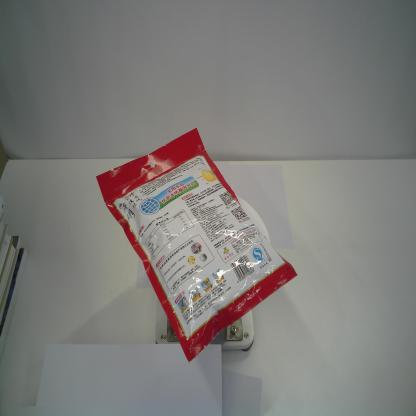Instant Drink: (94, 126, 298, 366)
